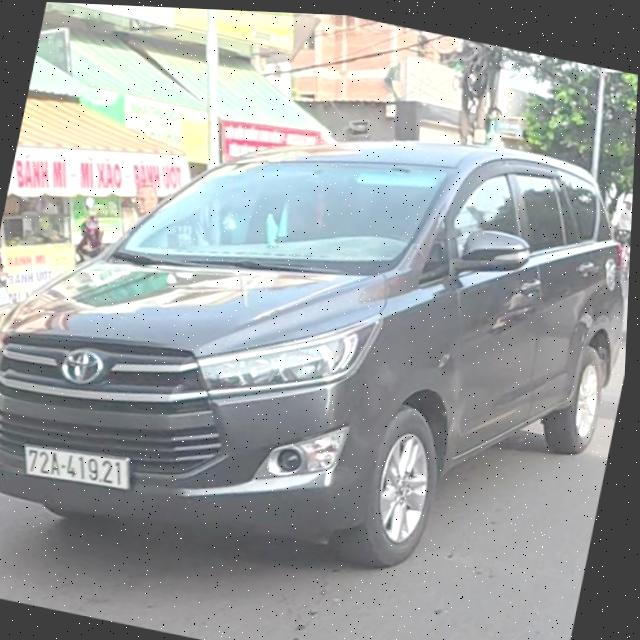car: (0, 52, 638, 634)
plate: (18, 433, 142, 498)
